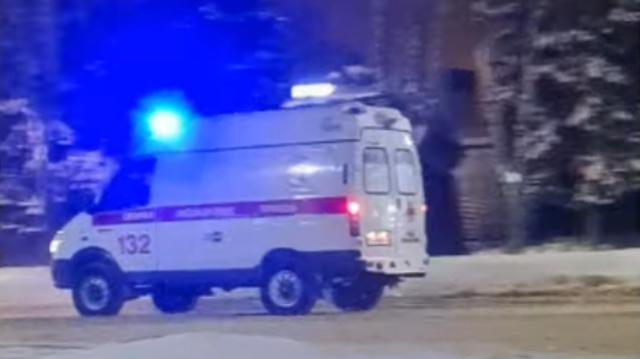ambulance: (51, 102, 429, 318)
